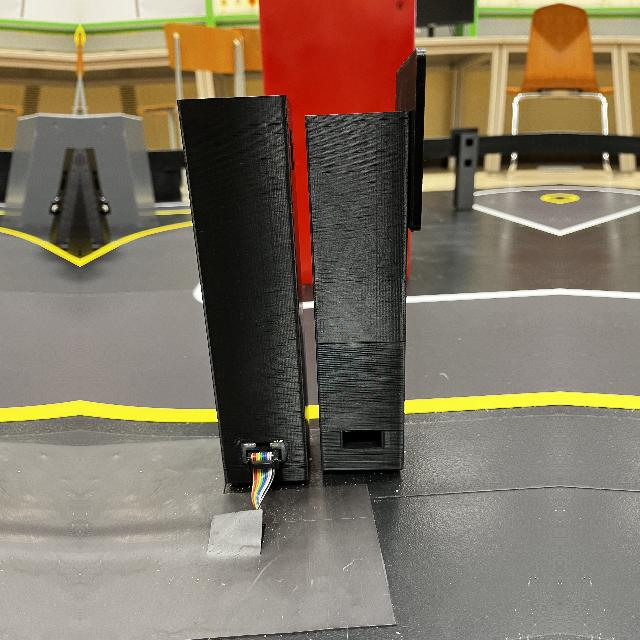obstacle: (174, 96, 308, 498), (306, 102, 420, 482)
